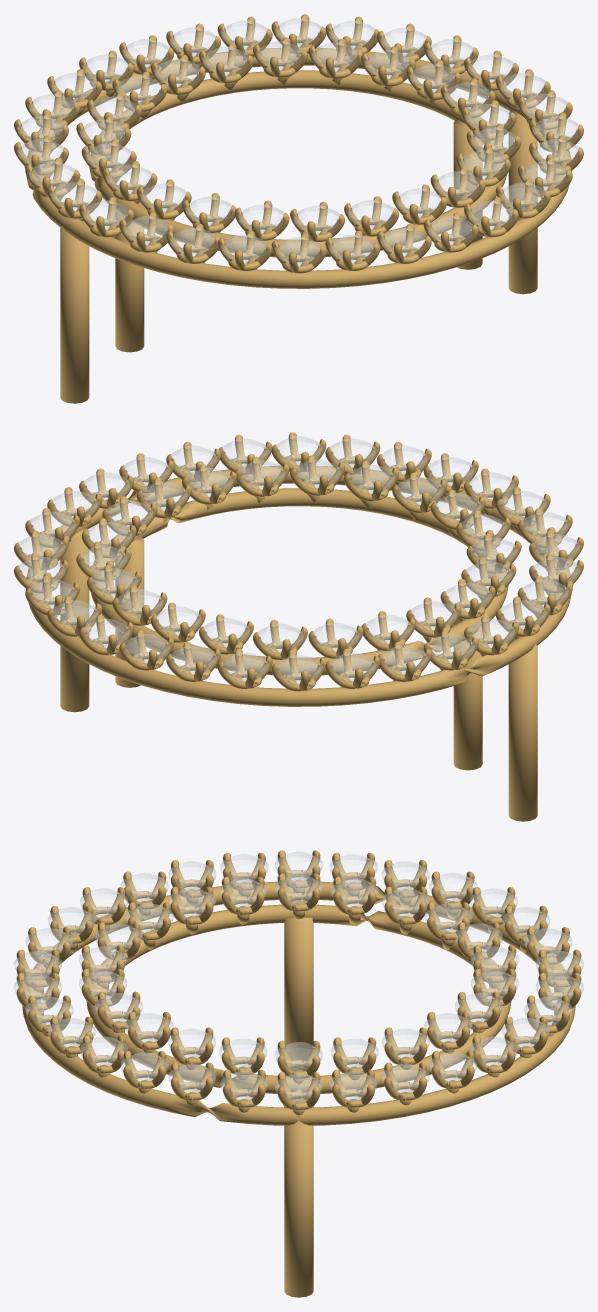
File: layouts-double-halo.glb
The picture shows the model from 3 angles, top to bottom: view 1: azimuth 30°, elevation 25°; view 2: azimuth 150°, elevation 25°; view 3: azimuth 270°, elevation 25°; orthographic projection.
Visible parts, largest first — view 1: Bezel rim.001, Bezel rim, Halo shoulder support.002, Halo shoulder support.003, Halo shoulder support, Halo shoulder support.001, Gem.017, Gem.015, Gem.047, Gem.004, Gem.005, Gem.006 (+46 smaller); view 2: Bezel rim.001, Bezel rim, Halo shoulder support.002, Halo shoulder support.003, Halo shoulder support, Halo shoulder support.001, Gem.007, Gem.009, Gem.029, Gem.018, Gem.019, Gem.020 (+46 smaller); view 3: Bezel rim.001, Bezel rim, Halo shoulder support.003, Halo shoulder support, Gem.023, Gem.001, Gem.003, Gem.021, Gem.026, Gem.012, Gem.024, Gem.050 (+44 smaller).
Part boxes in pixels (left/top/right/bottom): Bezel rim.001: left=26, top=47, right=571, bottom=288; Bezel rim: left=89, top=70, right=507, bottom=257; Halo shoulder support.002: left=60, top=221, right=89, bottom=403; Halo shoulder support.003: left=508, top=109, right=537, bottom=294; Halo shoulder support: left=115, top=201, right=144, bottom=352; Halo shoulder support.001: left=453, top=119, right=482, bottom=269; Gem.017: left=348, top=200, right=393, bottom=228; Gem.015: left=238, top=204, right=284, bottom=233; Gem.047: left=468, top=201, right=513, bottom=229; Gem.004: left=312, top=42, right=358, bottom=71; Gem.005: left=257, top=41, right=302, bottom=69; Gem.006: left=203, top=47, right=248, bottom=75; Bezel rim.001: left=26, top=465, right=571, bottom=706; Bezel rim: left=90, top=488, right=508, bottom=675; Halo shoulder support.002: left=508, top=639, right=537, bottom=821; Halo shoulder support.003: left=60, top=527, right=89, bottom=712; Halo shoulder support: left=453, top=619, right=482, bottom=770; Halo shoulder support.001: left=115, top=537, right=144, bottom=687; Gem.007: left=204, top=618, right=249, bottom=646; Gem.009: left=313, top=622, right=359, bottom=651; Gem.029: left=84, top=619, right=129, bottom=647; Gem.018: left=349, top=465, right=394, bottom=493; Gem.019: left=295, top=459, right=340, bottom=487; Gem.020: left=239, top=460, right=285, bottom=489; Bezel rim.001: left=22, top=881, right=575, bottom=1125; Bezel rim: left=86, top=904, right=511, bottom=1093; Halo shoulder support.003: left=284, top=1118, right=313, bottom=1297; Halo shoulder support: left=284, top=917, right=313, bottom=1061; Gem.023: left=275, top=1073, right=322, bottom=1102; Gem.001: left=275, top=1042, right=322, bottom=1070; Gem.003: left=382, top=1029, right=429, bottom=1057; Gem.021: left=168, top=1029, right=215, bottom=1057; Gem.026: left=429, top=1052, right=476, bottom=1081; Gem.012: left=275, top=875, right=322, bottom=903; Gem.024: left=329, top=1071, right=377, bottom=1099; Gem.050: left=121, top=1052, right=168, bottom=1081.
Size of the model in its own units: 12.45 by 5.19 by 12.39.
